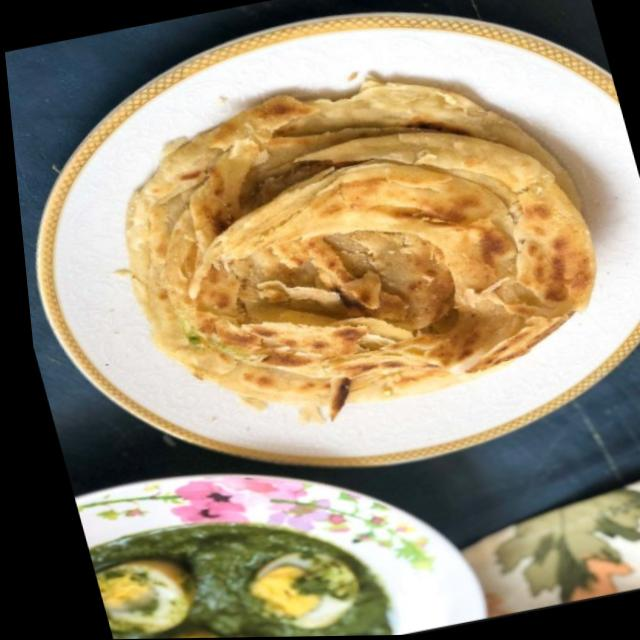PAROTTA: (120, 79, 590, 422)
